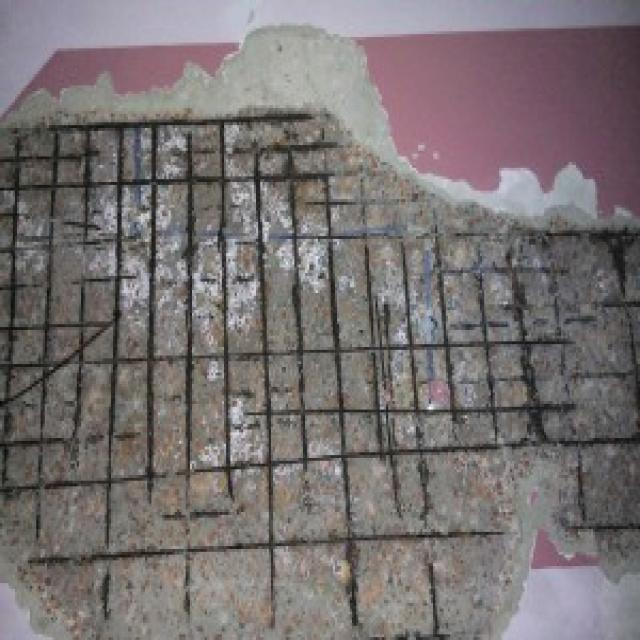Spalling: (0, 51, 640, 634)
